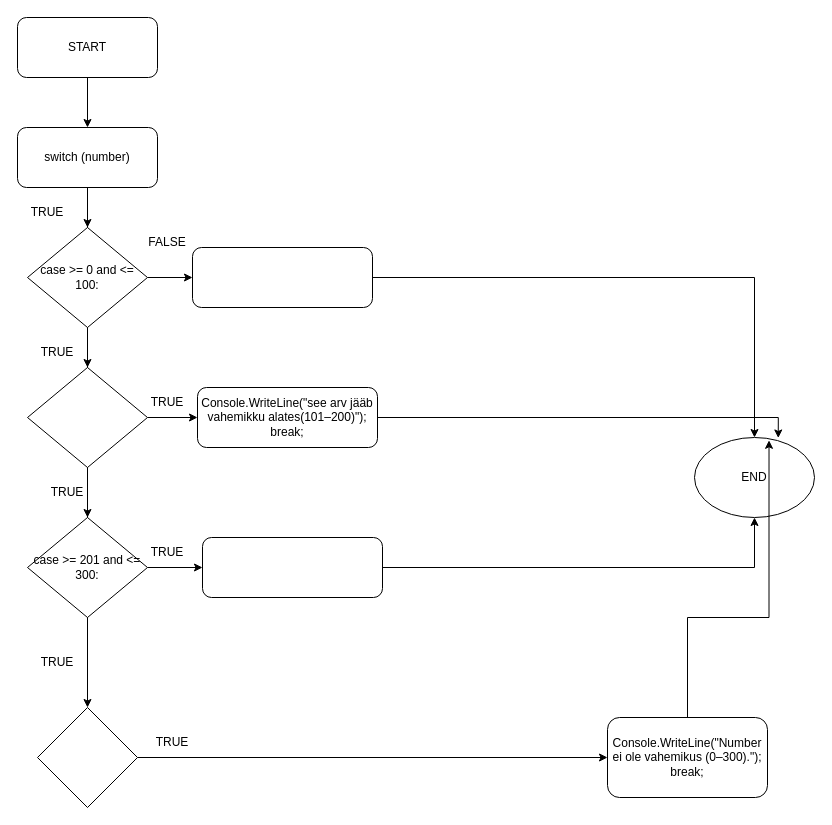
The diagram is 832 pixels wide and 825 high, and some of its shapes have lost their labels. Here are the shapes that lost their labels. From the top down, the centre of each, then its label:
(x=282, y=277): Console.WriteLine("see arv jääb vahemikku alates(0–100)"); break;
(x=87, y=417): case >= 101 and <= 200:
(x=292, y=567): Console.WriteLine("see arv jääb vahemikku alates(201–300)"); break;
(x=87, y=757): default:
